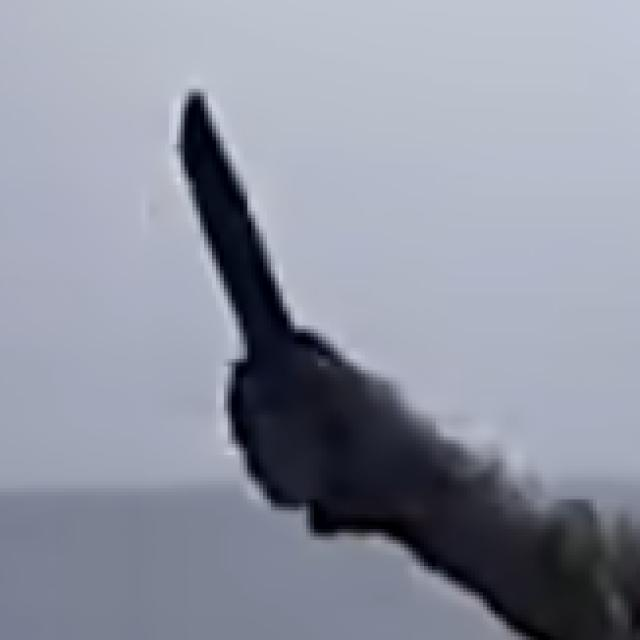Fknife: (163, 67, 360, 496)
